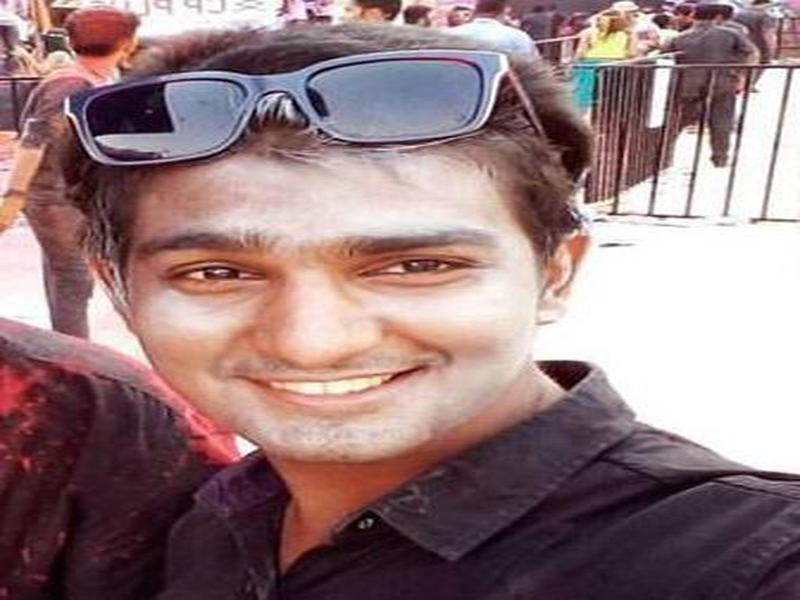without_mask: (102, 150, 538, 476)
